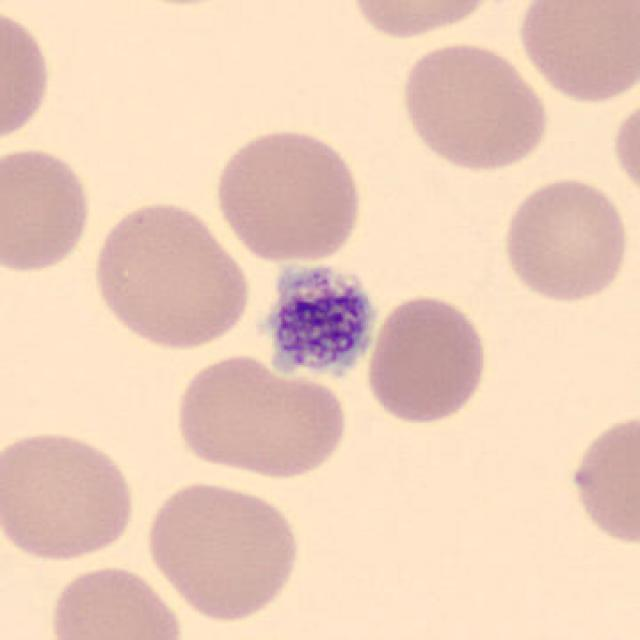Platelets: (254, 256, 382, 386)
RBC: (89, 198, 254, 352), (140, 476, 306, 624), (169, 349, 352, 483), (210, 124, 368, 266), (397, 37, 551, 175), (0, 423, 142, 564), (361, 289, 492, 429), (498, 173, 633, 305), (512, 0, 638, 106), (0, 141, 96, 277), (44, 560, 188, 640), (563, 405, 640, 550), (0, 4, 55, 148), (345, 0, 505, 42), (608, 92, 640, 206)
